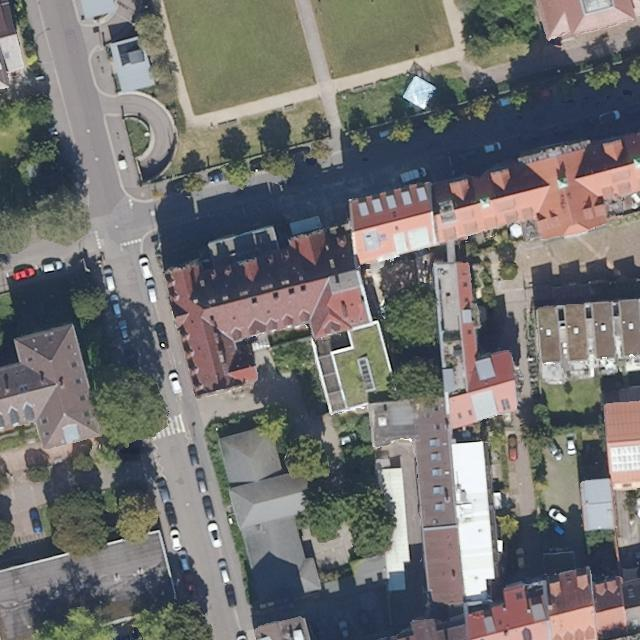PV: (609, 444, 639, 472)
